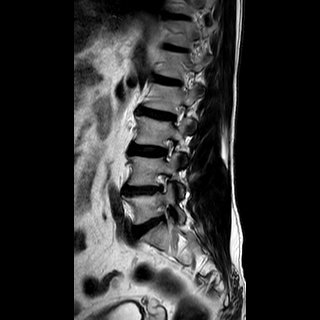LFS0: (166, 98, 189, 131)
LFS1: (156, 131, 179, 166), (151, 167, 174, 198)
